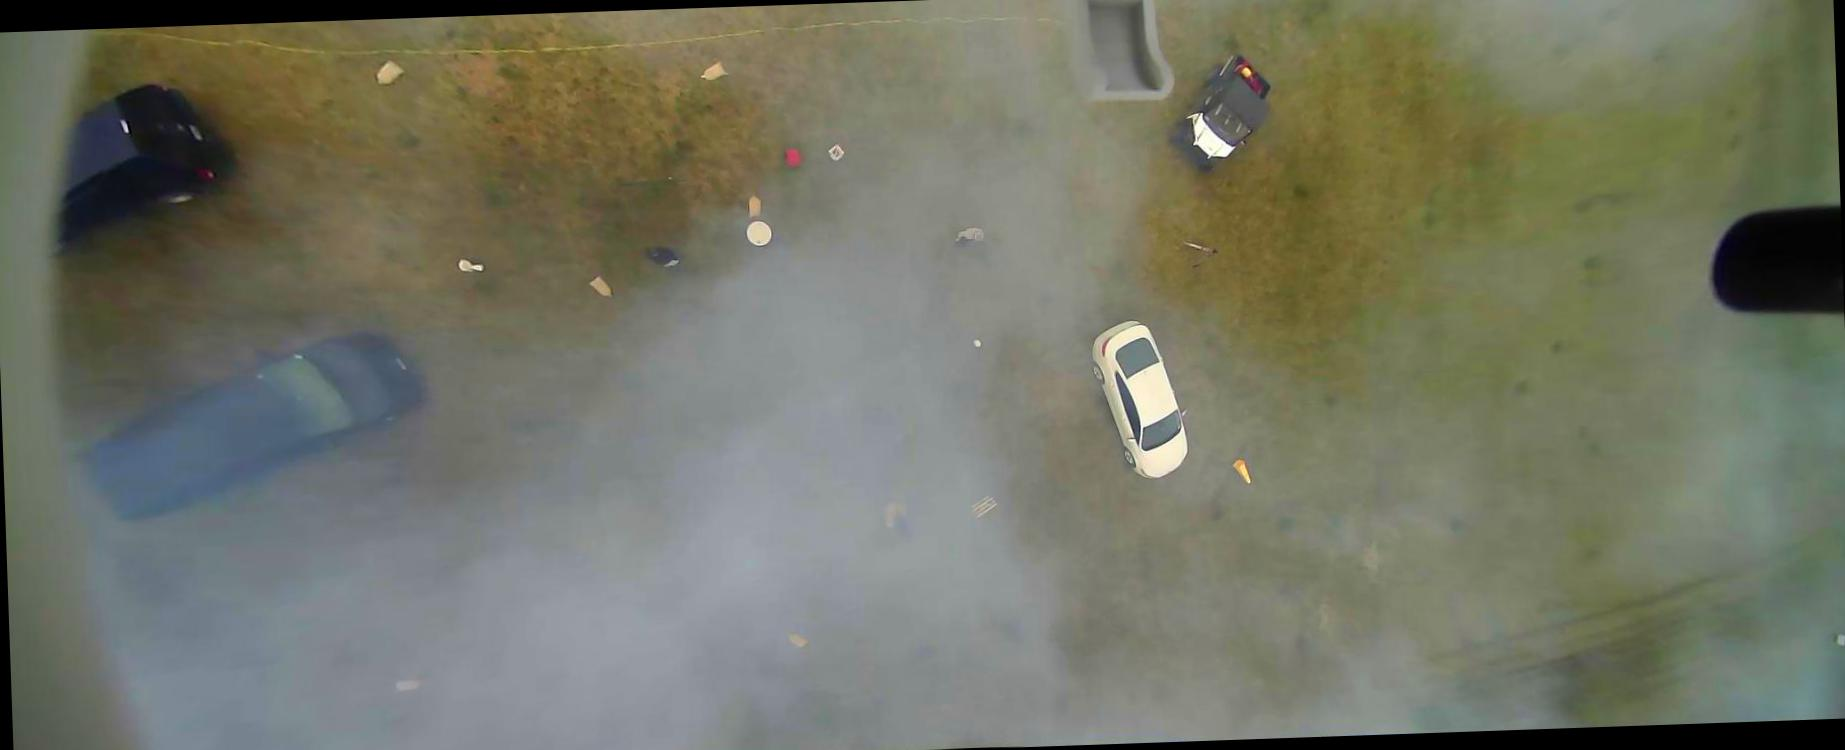vehicle: (70, 328, 427, 524), (34, 79, 230, 262), (1087, 317, 1190, 481), (1162, 51, 1274, 176)
